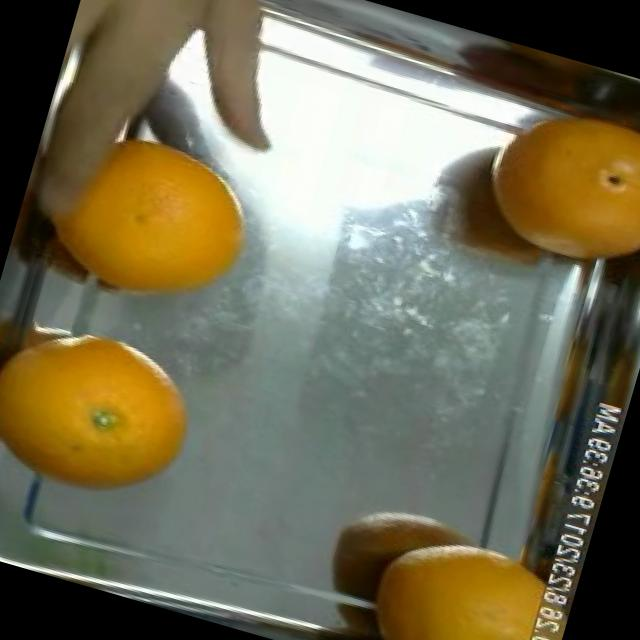Fruit: (339, 508, 572, 640)
